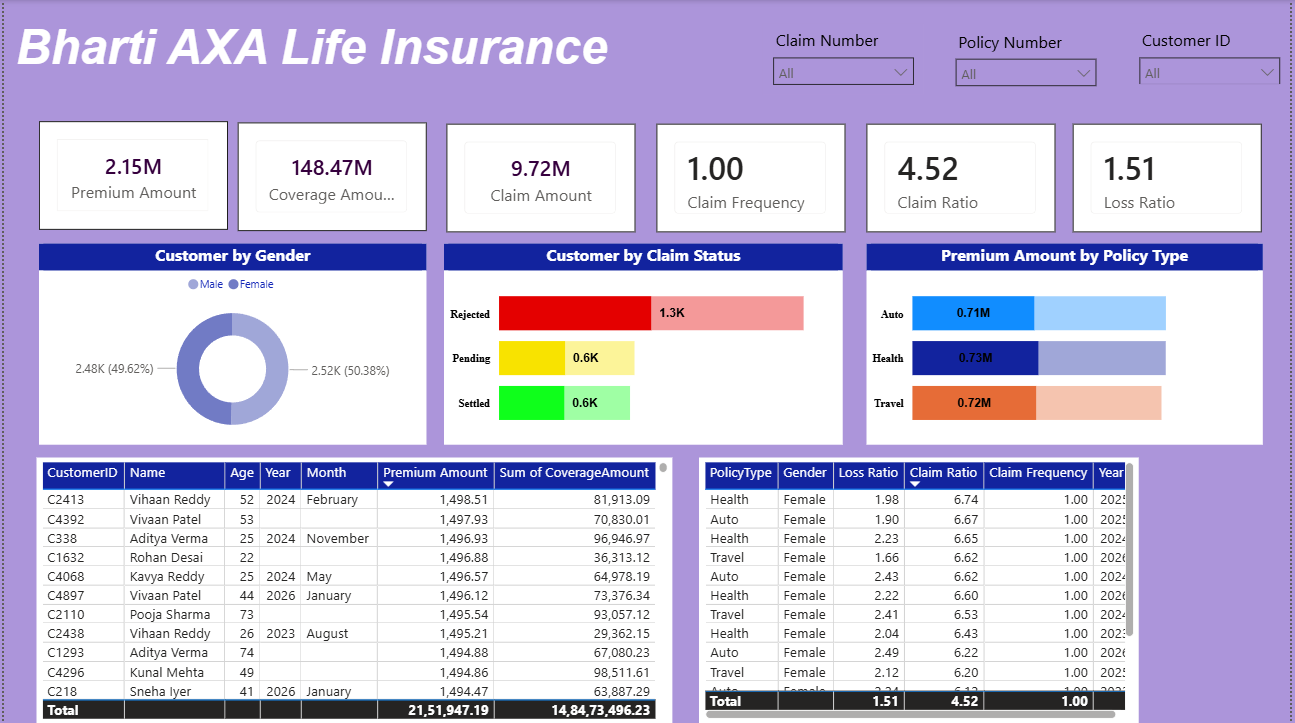

The page's visual inventory and layout, read from the dashboard file:
{"tool":"powerbi","page":{"name":"Page 1Bharti AXA Life Insurance","canvas":[1280,720],"ordinal":0},"visuals":[{"type":"slicer","fields":{"Values":["Sheet1.CustomerID"]},"box":[1119.7,23.3,160.5,60.4],"z":0},{"type":"slicer","fields":{"Values":["Sheet1.ClaimNumber"]},"box":[754.7,23.3,160,70],"z":1000},{"type":"slicer","fields":{"Values":["Sheet1.PolicyNumber"]},"box":[937.2,24.7,160.5,70],"z":2000},{"type":"cardVisual","fields":{"Data":["Sum(Sheet1.PremiumAmount)"]},"box":[34.8,120.7,187.8,108.2],"z":3000},{"type":"cardVisual","fields":{"Data":["Sum(Sheet1.CoverageAmount)"]},"box":[232.6,121.9,187.8,108.2],"z":4000},{"type":"cardVisual","fields":{"Data":["Sum(Sheet1.ClaimAmount)"]},"box":[440.4,123.2,187.8,108.2],"z":5000},{"type":"cardVisual","fields":{"Data":["Sheet1.Claim Frequency"]},"box":[649.3,123.2,187.8,108.2],"z":6000},{"type":"cardVisual","fields":{"Data":["Sheet1.Claim Ratio"]},"box":[858.3,123.2,187.8,108.2],"z":7000},{"type":"cardVisual","fields":{"Data":["Sheet1.Loss Ratio"]},"box":[1063.6,123.2,187.8,108.2],"z":8000},{"type":"donutChart","title":"Customer by  Gender","fields":{"Category":["Sheet1.Gender"],"Y":["Count(Sheet1.CustomerID)"]},"box":[34.8,242.6,385.6,200.3],"z":9000},{"type":"barChart","title":"Customer by Claim Status","fields":{"Category":["Sheet1.ClaimStatus"],"Y":["CountNonNull(Sheet1.CustomerID)"]},"box":[437.9,242.6,396.8,200.3],"z":10000},{"type":"barChart","title":" Premium Amount by Policy Type ","fields":{"Category":["Sheet1.PolicyType"],"Y":["Sum(Sheet1.PremiumAmount)"],"Series":["Sheet1.PolicyType"]},"box":[858.3,242.6,394.3,200.3],"z":11000},{"type":"tableEx","fields":{"Values":["Sheet1.CustomerID","Sheet1.Name","Sheet1.Age","Sheet1.ClaimDate.Variation.Date Hierarchy.Year","Sheet1.ClaimDate.Variation.Date Hierarchy.Month","Sum(Sheet1.PremiumAmount)","Sum(Sheet1.CoverageAmount)"]},"box":[32.3,455.3,633.2,265],"z":12000},{"type":"tableEx","fields":{"Values":["Sheet1.PolicyType","Sheet1.Gender","Sheet1.Loss Ratio","Sheet1.Claim Ratio","Sheet1.Claim Frequency","Sheet1.ClaimDate.Variation.Date Hierarchy.Year"]},"box":[691.6,455.3,437.9,265],"z":13000},{"type":"textbox","box":[0,14.9,612,69.7],"z":14000}]}

Visuals, with their boxes in screenshot pixels (x1, y1, x2, y2), scaled from the page's 1280x720 canvas onto the 1295x723 screenshot:
slicer - Sheet1.CustomerID: 1133/23/1294/84
slicer - Sheet1.ClaimNumber: 764/23/925/94
slicer - Sheet1.PolicyNumber: 948/25/1111/95
cardVisual - Sum(Sheet1.PremiumAmount): 35/121/225/230
cardVisual - Sum(Sheet1.CoverageAmount): 235/122/425/231
cardVisual - Sum(Sheet1.ClaimAmount): 446/124/636/232
cardVisual - Sheet1.Claim Frequency: 657/124/847/232
cardVisual - Sheet1.Claim Ratio: 868/124/1058/232
cardVisual - Sheet1.Loss Ratio: 1076/124/1266/232
"Customer by  Gender" donutChart: 35/244/425/445
"Customer by Claim Status" barChart: 443/244/844/445
" Premium Amount by Policy Type " barChart: 868/244/1267/445
tableEx - Sheet1.CustomerID x Sheet1.Name: 33/457/673/722
tableEx - Sheet1.PolicyType x Sheet1.Gender: 700/457/1143/722
textbox: 0/15/619/85
